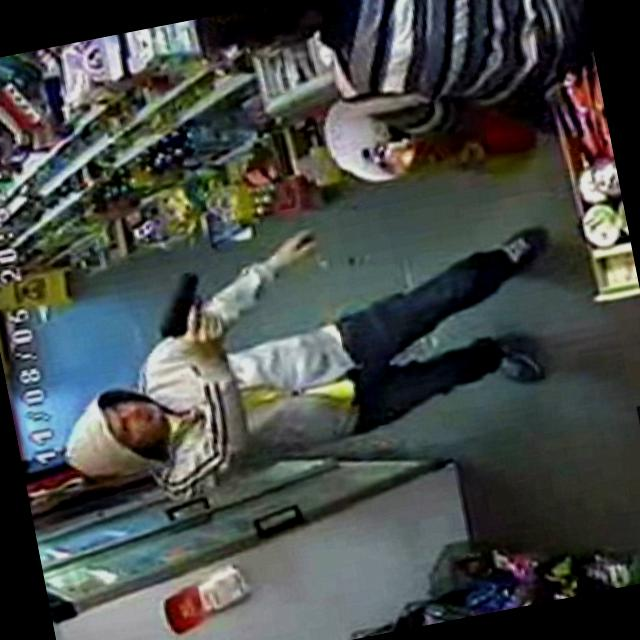handgun: (143, 266, 224, 344)
